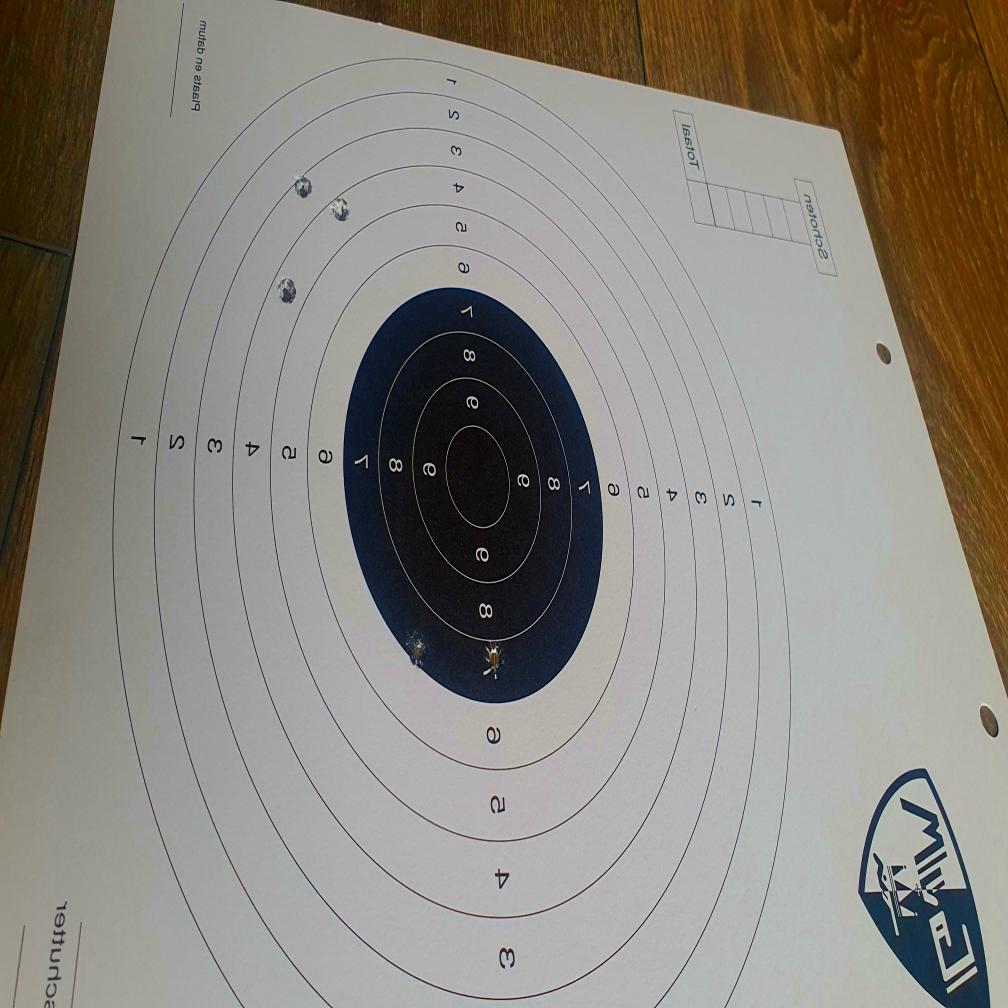3: (292, 171, 314, 205)
4: (276, 272, 298, 307), (329, 195, 352, 226)
7: (406, 629, 428, 669), (483, 640, 505, 678)
Target: (108, 58, 792, 1008)
black_contour: (343, 284, 602, 704)
